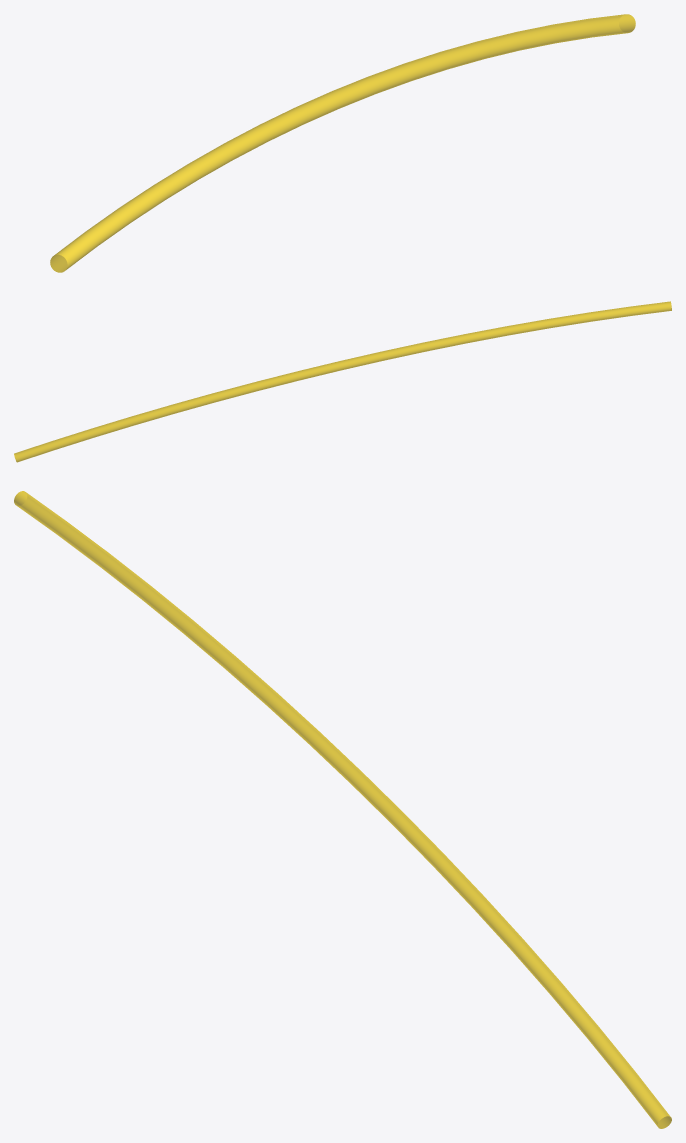
The model's file is Event_40932208_track_3.fbx.
3 renders of one model, top to bottom at view 1: azimuth 30°, elevation 25°; view 2: azimuth 150°, elevation 25°; view 3: azimuth 270°, elevation 25°, orthographic. The views are drawn at different scales.
Visible parts, largest first — view 1: Model; view 2: Model; view 3: Model.
Boxes of the visible parts, x1,y1,x2,y2 form: Model: (50, 14, 635, 272); Model: (14, 301, 671, 462); Model: (14, 491, 671, 1128).
Bounding box in the file's own units: 2.3 × 0.6427 × 1.59.
